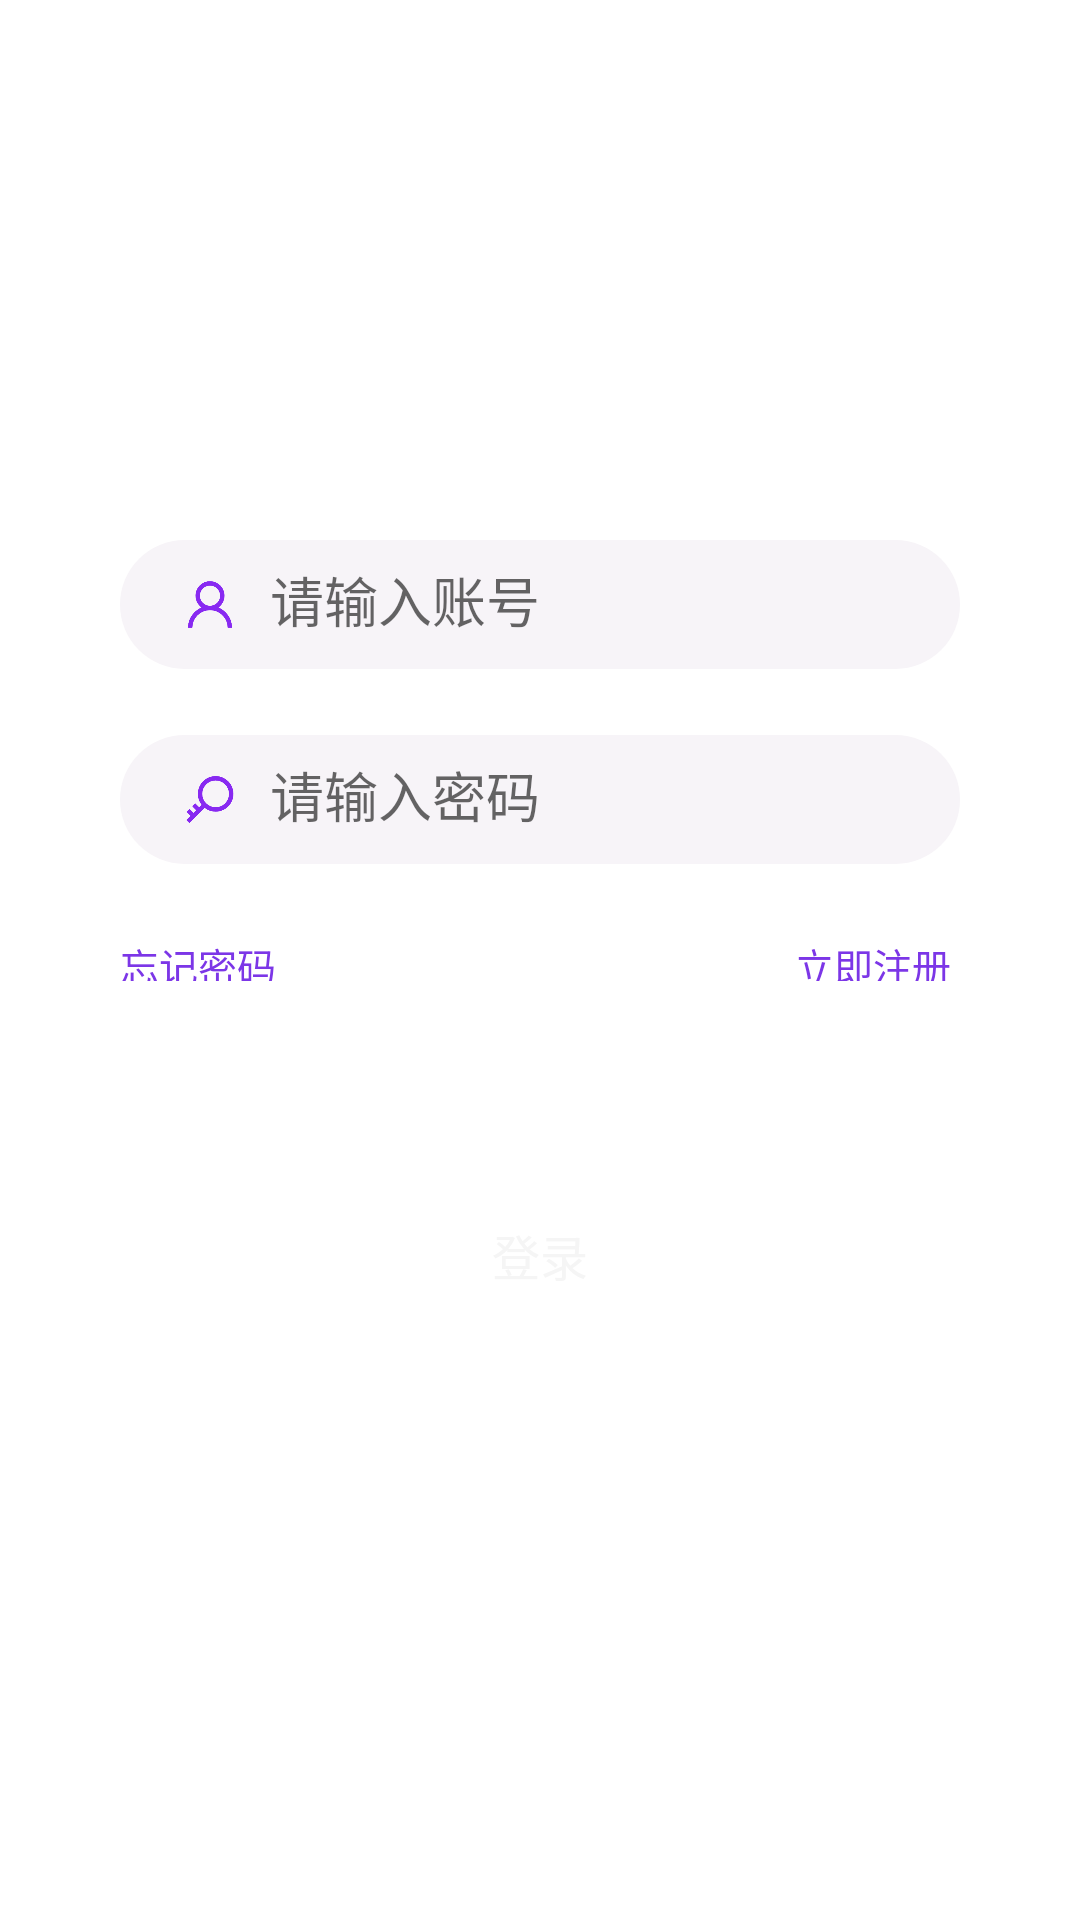

Screen size 1080 x 1920. Icon name, then its box in pixels as [left=x1, top=y1, right=x2, bottom=y2]:
login account: [left=188, top=581, right=232, bottom=628]
login password: [left=187, top=776, right=234, bottom=823]
